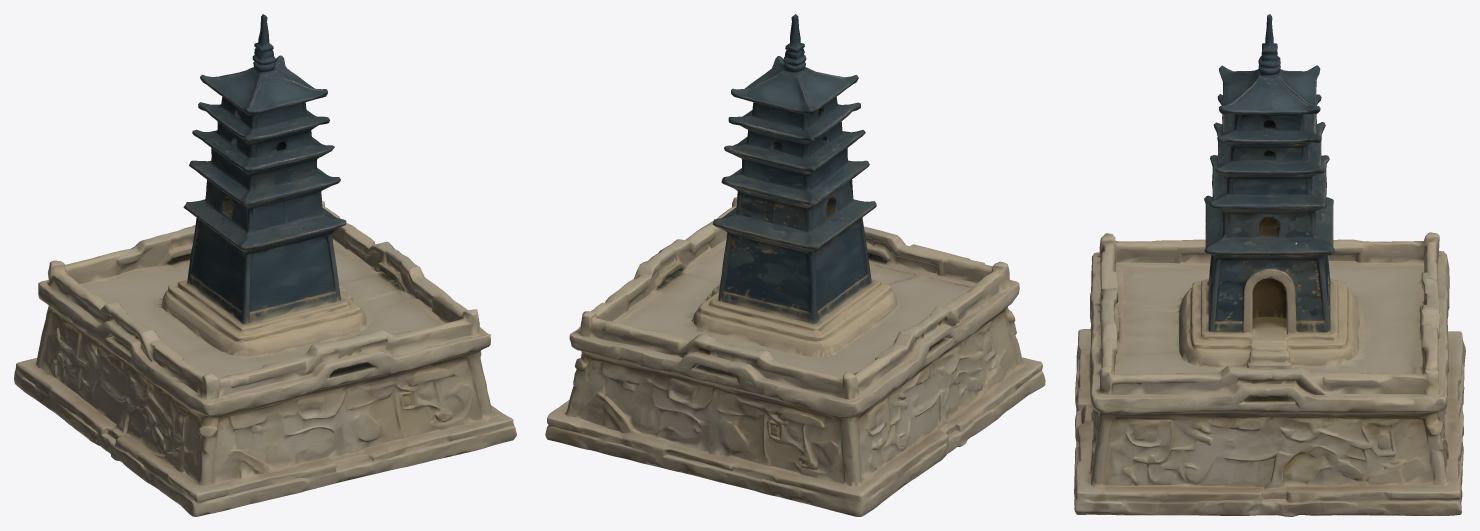
File: tower.glb
3 renders of one model, left to right at view 1: azimuth 30°, elevation 25°; view 2: azimuth 150°, elevation 25°; view 3: azimuth 270°, elevation 25°, orthographic. The views are drawn at different scales.
Visible parts, largest first — view 1: tripo_node_48c14a9a-598b-4092-984d-4832aae93270; view 2: tripo_node_48c14a9a-598b-4092-984d-4832aae93270; view 3: tripo_node_48c14a9a-598b-4092-984d-4832aae93270.
Boxes of the visible parts, x1,y1,x2,y2 form: tripo_node_48c14a9a-598b-4092-984d-4832aae93270: [14, 14, 516, 516]; tripo_node_48c14a9a-598b-4092-984d-4832aae93270: [545, 14, 1045, 516]; tripo_node_48c14a9a-598b-4092-984d-4832aae93270: [1074, 14, 1465, 516].
Size of the model in its own units: 0.8448 by 1 by 0.8435.
1 material, 1 textured.
